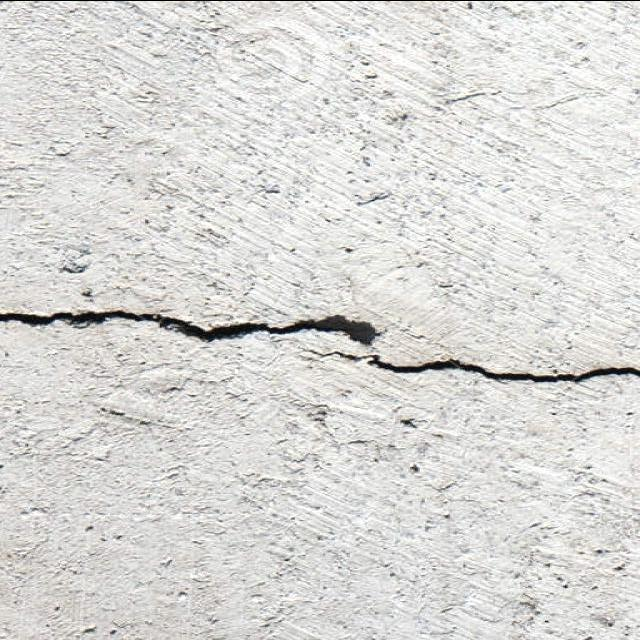crack: (0, 306, 639, 386), (447, 84, 595, 121), (6, 307, 183, 334), (101, 406, 183, 433), (442, 89, 497, 106), (356, 191, 393, 206)
